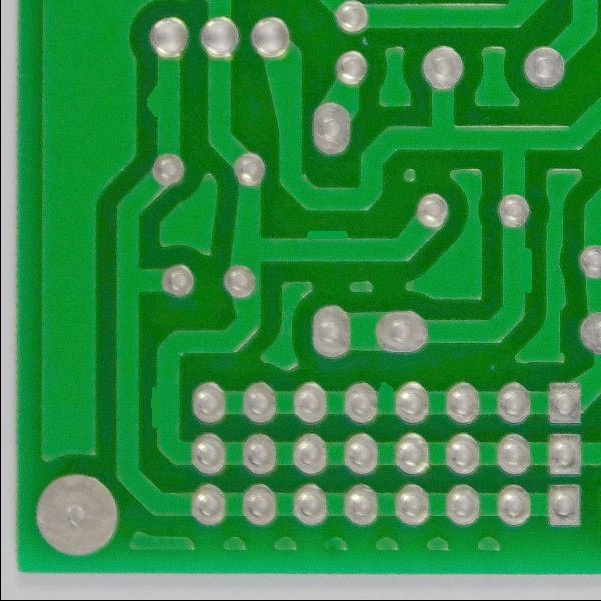spur: (293, 228, 357, 254), (366, 373, 404, 415), (511, 241, 537, 302), (146, 383, 169, 436), (141, 83, 166, 126)
